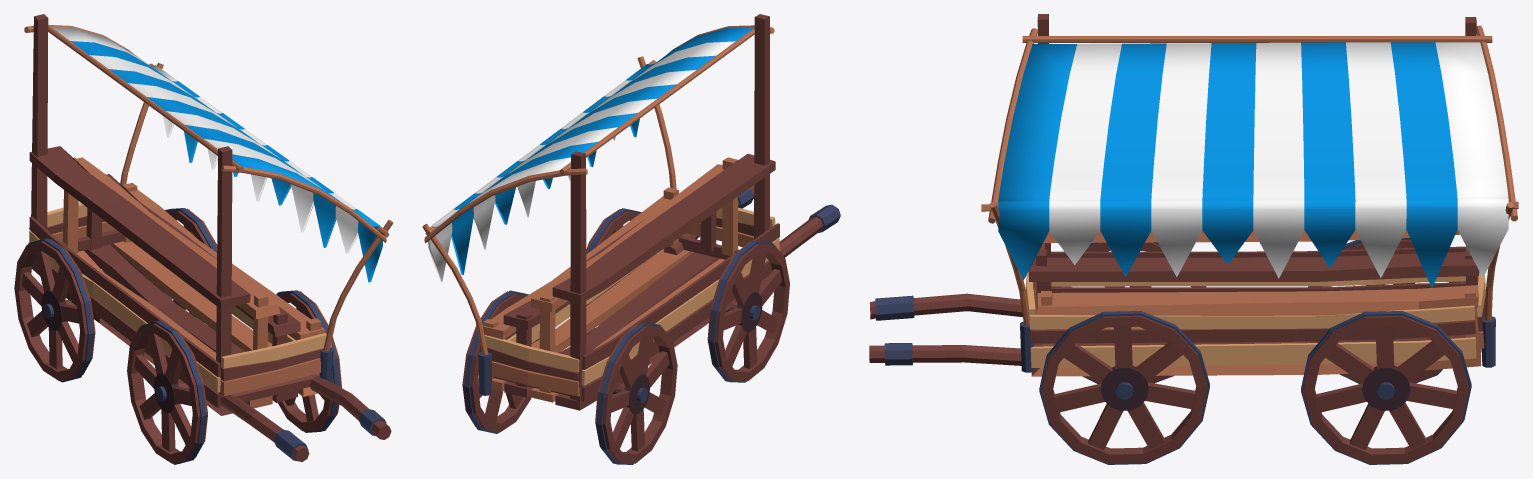
The model's file is Canopy WheelCart 01.fbx.
3 views of the same model, side by side, from view 1: azimuth 30°, elevation 25°; view 2: azimuth 150°, elevation 25°; view 3: azimuth 270°, elevation 25° (orthographic). The views are drawn at different scales.
Parts seen in each view (by area): view 1: WheelCart_03, Wheel_01.003, Wheel_01.002, Wheel_02.003, Wheel_02.002; view 2: WheelCart_03, Wheel_01.003, Wheel_01.002, Wheel_02.002, Wheel_02.003; view 3: WheelCart_03, Wheel_02.003, Wheel_02.002, Wheel_01.002, Wheel_01.003.
Part boxes in pixels (x1,y1,x2,y2): WheelCart_03: (24,14,393,461); Wheel_01.003: (127,320,207,464); Wheel_01.002: (14,238,95,382); Wheel_02.003: (268,290,341,432); Wheel_02.002: (164,208,217,322); WheelCart_03: (422,14,840,410); Wheel_01.003: (707,241,789,382); Wheel_01.002: (595,323,677,464); Wheel_02.002: (462,290,539,433); Wheel_02.003: (586,208,656,334); WheelCart_03: (869,14,1518,376); Wheel_02.003: (1039,311,1209,464); Wheel_02.002: (1301,311,1471,464); Wheel_01.002: (1308,238,1465,383); Wheel_01.003: (1051,242,1205,383).
Bounding box in the file's own units: 204 × 367 × 562.
